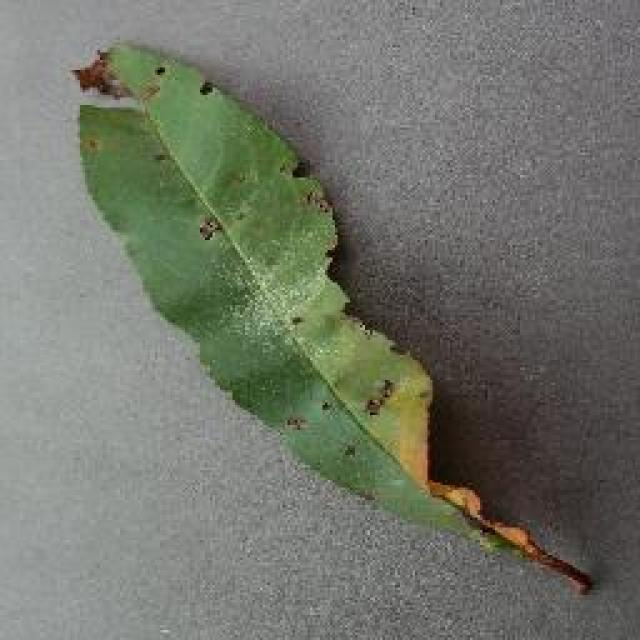Peach_Bacterial_Spot: (107, 47, 403, 373)
